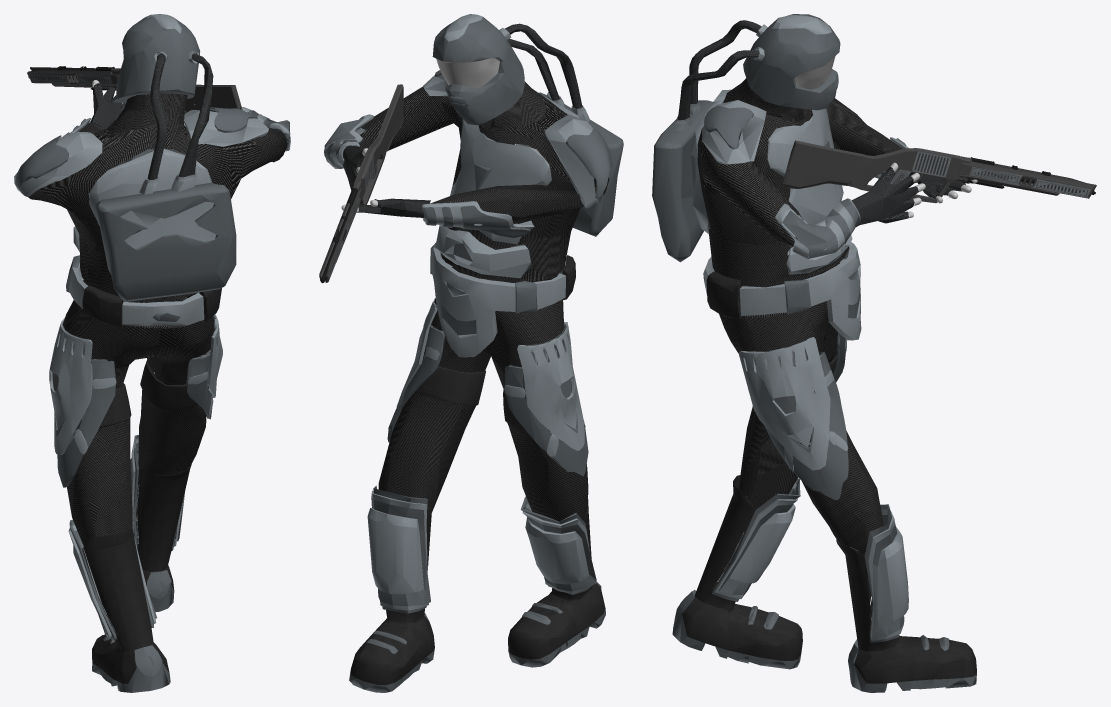
3 views of the same model, side by side, from view 1: azimuth 30°, elevation 25°; view 2: azimuth 150°, elevation 25°; view 3: azimuth 270°, elevation 25° (orthographic). The views are drawn at different scales.
Visible parts, largest first — view 1: personaje:extrudedSurface2 polySurface66, personaje:PANTALON polySurface66, personaje:bota1 polySurface66, personaje:CAMISETABUENA polySurface66, personaje:pPipe4 polySurface66, personaje:pCube4 polySurface66, personaje:cosoarmdaurapierna1 polySurface66, personaje:cinturon polySurface66, escopeta:Cylinder001 polySurface66, personaje:polySurface6 polySurface66, personaje:armadbota1 polySurface66, personaje:polySurface11 polySurface66 (+3 smaller); view 2: personaje:PANTALON polySurface66, personaje:CAMISETABUENA polySurface66, personaje:pPipe4 polySurface66, personaje:bota1 polySurface66, personaje:extrudedSurface2 polySurface66, personaje:armadbota1 polySurface66, personaje:cinturon polySurface66, personaje:pCube4 polySurface66, personaje:cosoarmdaurapierna1 polySurface66, escopeta:Cylinder001 polySurface66, personaje:polySurface6 polySurface66, personaje:HOMBRO2 polySurface66 (+6 smaller); view 3: personaje:bota1 polySurface66, personaje:CAMISETABUENA polySurface66, personaje:extrudedSurface2 polySurface66, personaje:pPipe4 polySurface66, personaje:pCube4 polySurface66, personaje:PANTALON polySurface66, escopeta:Cylinder001 polySurface66, personaje:cinturon polySurface66, personaje:armadbota1 polySurface66, personaje:cosoarmadurapierna2 polySurface66, personaje:hombro1 polySurface66, personaje:partearmdBRAZO2 polySurface66 (+1 smaller).
Boxes of the visible parts, x1,y1,x2,y2 form: personaje:extrudedSurface2 polySurface66: [95, 14, 236, 301]; personaje:PANTALON polySurface66: [62, 280, 214, 545]; personaje:bota1 polySurface66: [83, 465, 191, 692]; personaje:CAMISETABUENA polySurface66: [24, 93, 287, 328]; personaje:pPipe4 polySurface66: [14, 83, 289, 252]; personaje:pCube4 polySurface66: [52, 297, 222, 640]; personaje:cosoarmdaurapierna1 polySurface66: [49, 318, 116, 455]; personaje:cinturon polySurface66: [66, 255, 221, 326]; escopeta:Cylinder001 polySurface66: [27, 66, 242, 113]; personaje:polySurface6 polySurface66: [99, 360, 198, 427]; personaje:armadbota1 polySurface66: [68, 438, 184, 637]; personaje:polySurface11 polySurface66: [147, 53, 167, 179]; personaje:PANTALON polySurface66: [378, 266, 588, 521]; personaje:CAMISETABUENA polySurface66: [359, 59, 609, 311]; personaje:pPipe4 polySurface66: [324, 75, 603, 278]; personaje:bota1 polySurface66: [349, 499, 605, 692]; personaje:extrudedSurface2 polySurface66: [432, 14, 623, 236]; personaje:armadbota1 polySurface66: [367, 490, 592, 610]; personaje:cinturon polySurface66: [430, 241, 575, 357]; personaje:pCube4 polySurface66: [371, 298, 596, 613]; personaje:cosoarmdaurapierna1 polySurface66: [504, 322, 585, 457]; escopeta:Cylinder001 polySurface66: [319, 84, 404, 283]; personaje:polySurface6 polySurface66: [416, 366, 527, 432]; personaje:HOMBRO2 polySurface66: [566, 128, 611, 198]; personaje:bota1 polySurface66: [672, 475, 976, 692]; personaje:CAMISETABUENA polySurface66: [697, 78, 902, 318]; personaje:extrudedSurface2 polySurface66: [652, 14, 840, 262]; personaje:pPipe4 polySurface66: [689, 89, 969, 274]; personaje:pCube4 polySurface66: [712, 332, 904, 642]; personaje:PANTALON polySurface66: [719, 256, 883, 577]; escopeta:Cylinder001 polySurface66: [783, 140, 1096, 203]; personaje:cinturon polySurface66: [703, 242, 861, 340]; personaje:armadbota1 polySurface66: [715, 483, 908, 640]; personaje:cosoarmadurapierna2 polySurface66: [754, 352, 848, 500]; personaje:hombro1 polySurface66: [704, 105, 753, 149]; personaje:partearmdBRAZO2 polySurface66: [775, 198, 860, 259].
Bounding box in the file's own units: 4.26 × 9.54 × 5.72.
